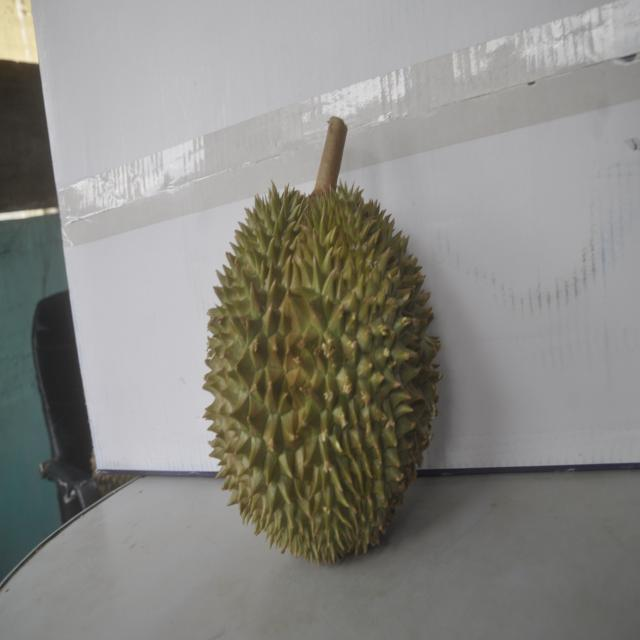mature: (200, 153, 437, 564)
